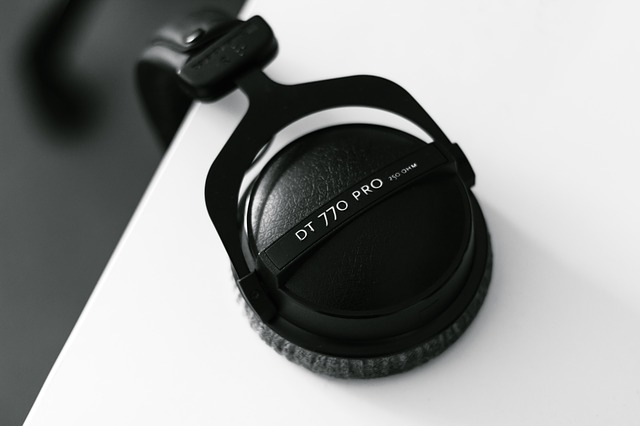headphones: (133, 13, 494, 381)
